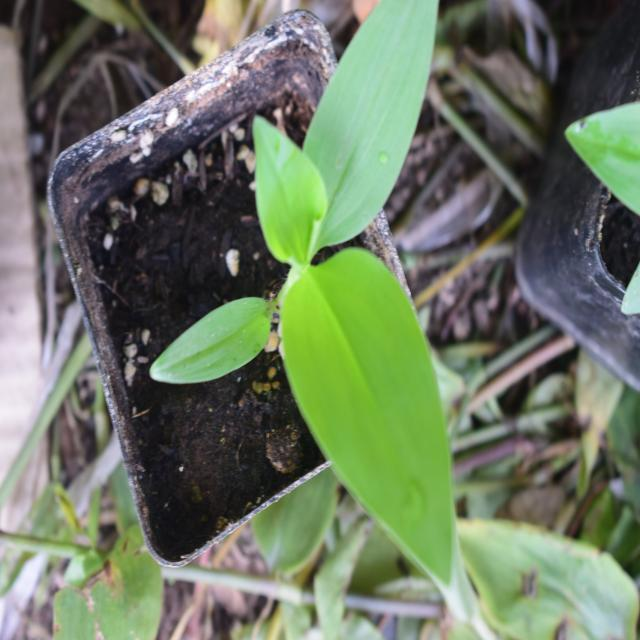Common Dayflower: (211, 46, 482, 571)
